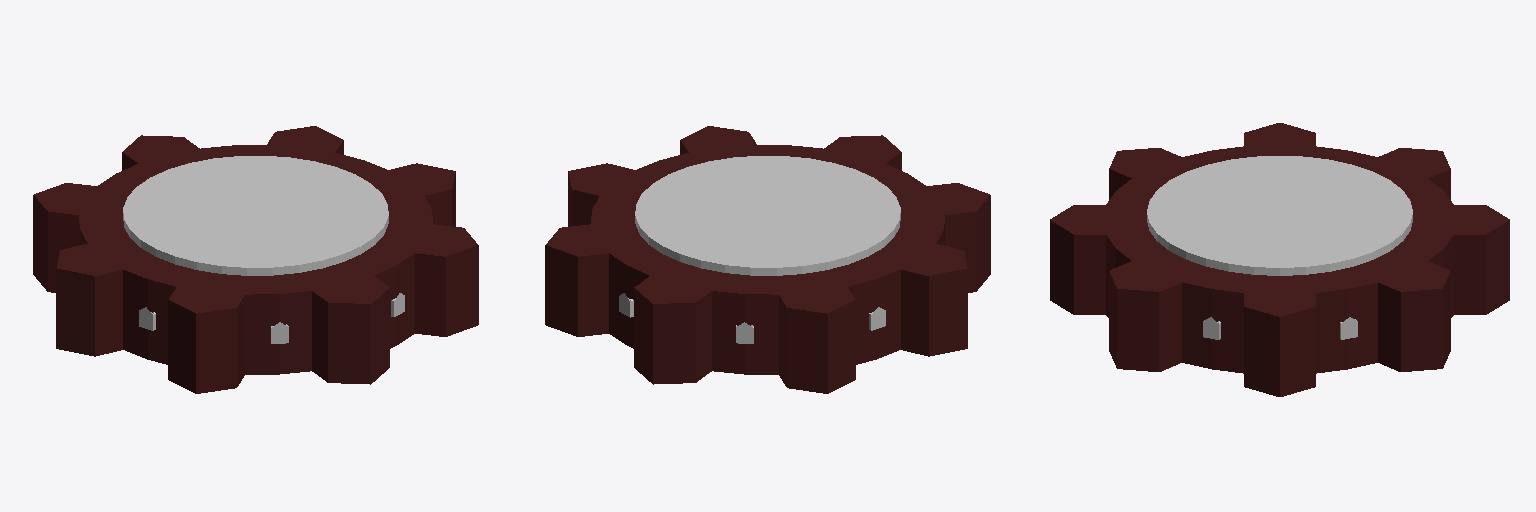
File: fort1.obj
3 views of the same model, side by side, from view 1: azimuth 30°, elevation 25°; view 2: azimuth 150°, elevation 25°; view 3: azimuth 270°, elevation 25° (orthographic).
Visible parts, largest first — view 1: Fort; view 2: Fort; view 3: Fort.
Part boxes in pixels (bbox=[...]): Fort: bbox=[33, 126, 478, 393]; Fort: bbox=[545, 126, 990, 393]; Fort: bbox=[1050, 123, 1509, 396].
Bounding box in the file's own units: 5.19 × 1.1 × 5.19.